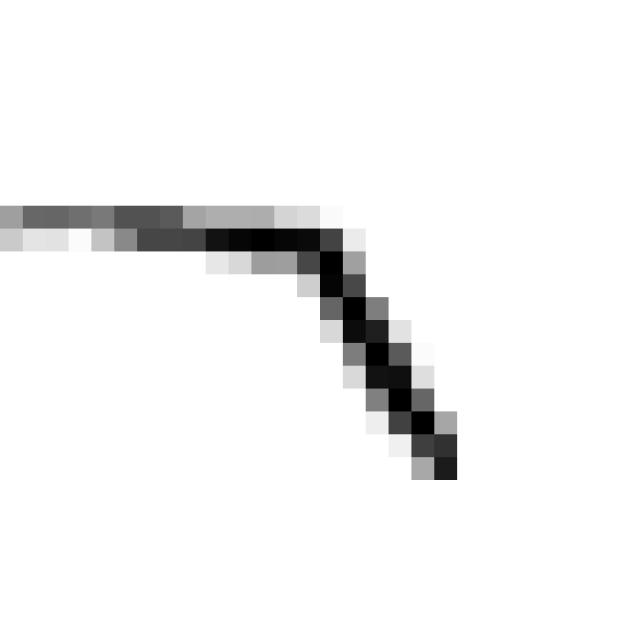6 -six-: (0, 183, 480, 503)
